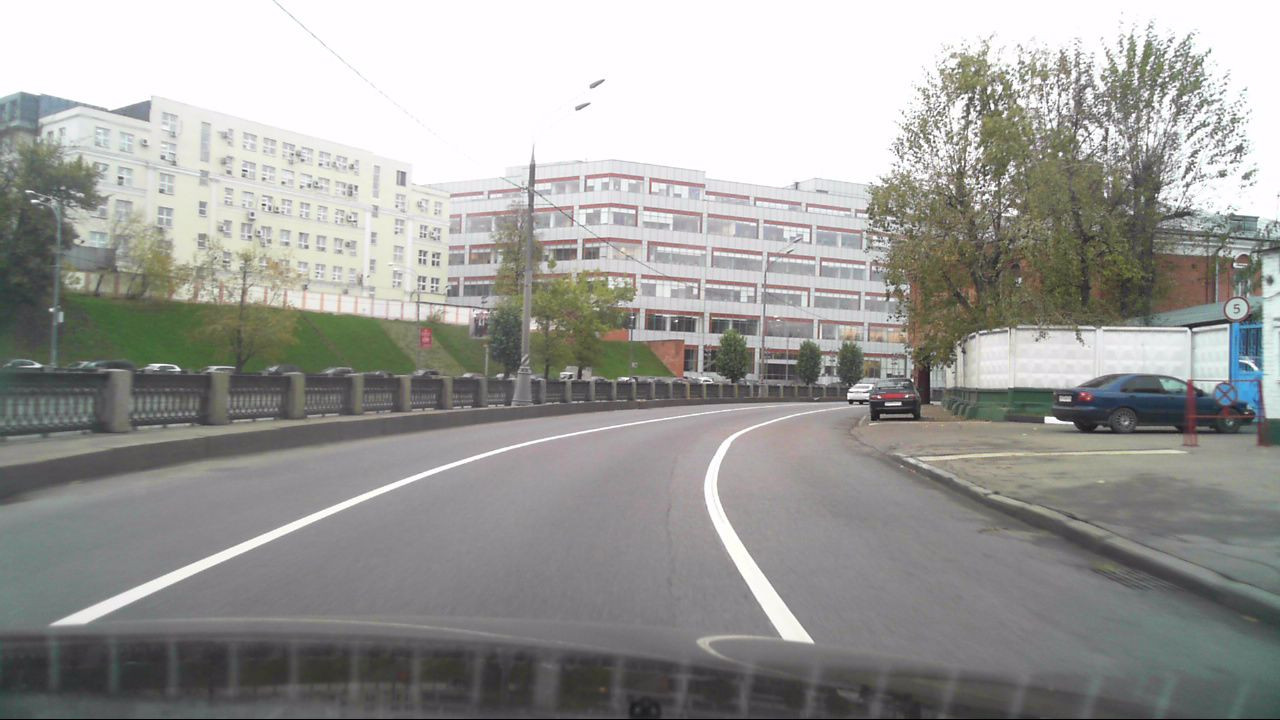No Parking: (1214, 383, 1236, 405)
